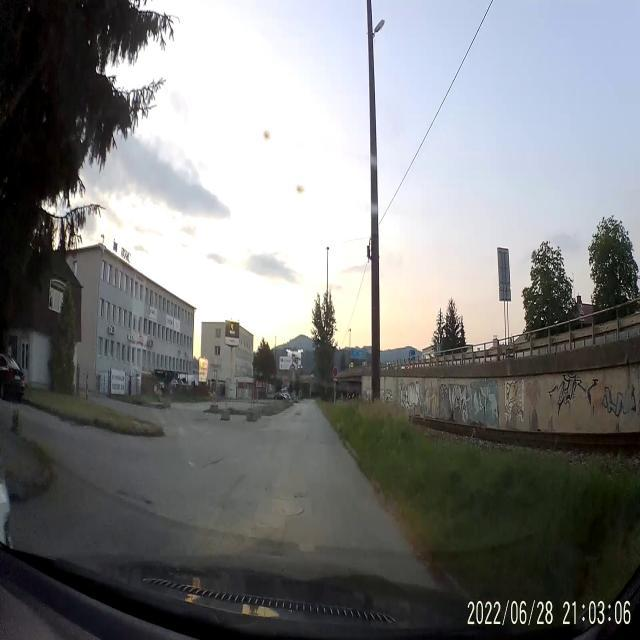Manhole: (272, 502, 304, 521)
Pothole: (112, 488, 155, 508), (202, 454, 224, 474)
